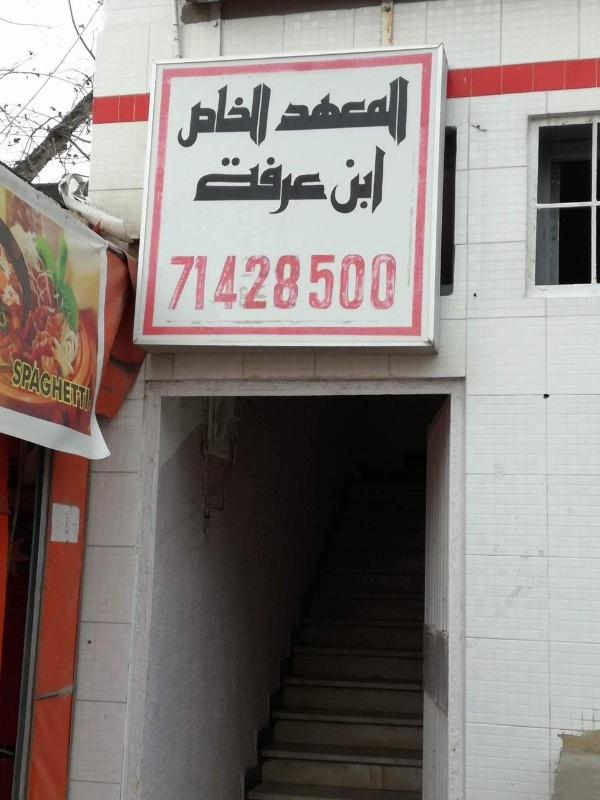text: (289, 74, 304, 146), (305, 74, 320, 146), (321, 74, 336, 146), (337, 74, 352, 146), (353, 74, 368, 146), (369, 74, 384, 146), (385, 74, 400, 146), (337, 145, 352, 217), (353, 145, 368, 217), (369, 145, 384, 217), (177, 81, 192, 151), (193, 81, 208, 151), (209, 81, 224, 151), (225, 81, 240, 151), (241, 81, 256, 151), (257, 81, 272, 151), (385, 252, 401, 314), (161, 252, 176, 314), (177, 252, 192, 314), (193, 252, 208, 314), (209, 252, 224, 314), (225, 252, 240, 314), (241, 252, 256, 314), (257, 252, 272, 314), (273, 252, 288, 314), (289, 252, 304, 314), (305, 252, 320, 314), (321, 252, 336, 314), (337, 252, 352, 314), (353, 252, 368, 314), (369, 252, 384, 314), (209, 157, 224, 215), (225, 157, 240, 215), (241, 157, 256, 215), (257, 157, 272, 215), (273, 157, 288, 215), (289, 157, 304, 215), (305, 157, 320, 215), (17, 357, 32, 413), (33, 357, 48, 413), (49, 357, 64, 413), (65, 357, 80, 413), (194, 157, 208, 215), (277, 74, 288, 146), (81, 357, 94, 413), (401, 74, 411, 146), (321, 157, 330, 215), (331, 145, 336, 217), (12, 357, 16, 413), (273, 81, 276, 151), (385, 145, 387, 217), (175, 81, 176, 151), (159, 252, 160, 314)
